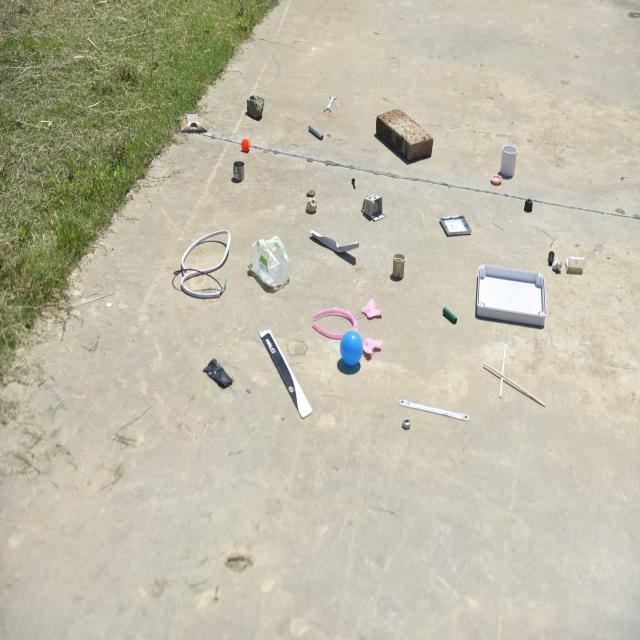Debris: (478, 260, 550, 336), (175, 223, 232, 302), (256, 326, 301, 420), (475, 357, 553, 408), (372, 100, 432, 158), (246, 232, 287, 295), (315, 294, 379, 328), (306, 226, 363, 263), (335, 333, 366, 374), (441, 208, 474, 245), (392, 395, 462, 409), (175, 108, 210, 136), (203, 354, 229, 386), (243, 92, 267, 124), (365, 190, 389, 222), (389, 249, 408, 279), (229, 158, 253, 180), (502, 143, 519, 173), (233, 135, 256, 157), (520, 189, 538, 215), (441, 306, 463, 326), (300, 192, 320, 214), (306, 122, 323, 141), (544, 240, 556, 264), (328, 89, 339, 110), (399, 419, 415, 430), (492, 169, 502, 185), (349, 178, 356, 189)
